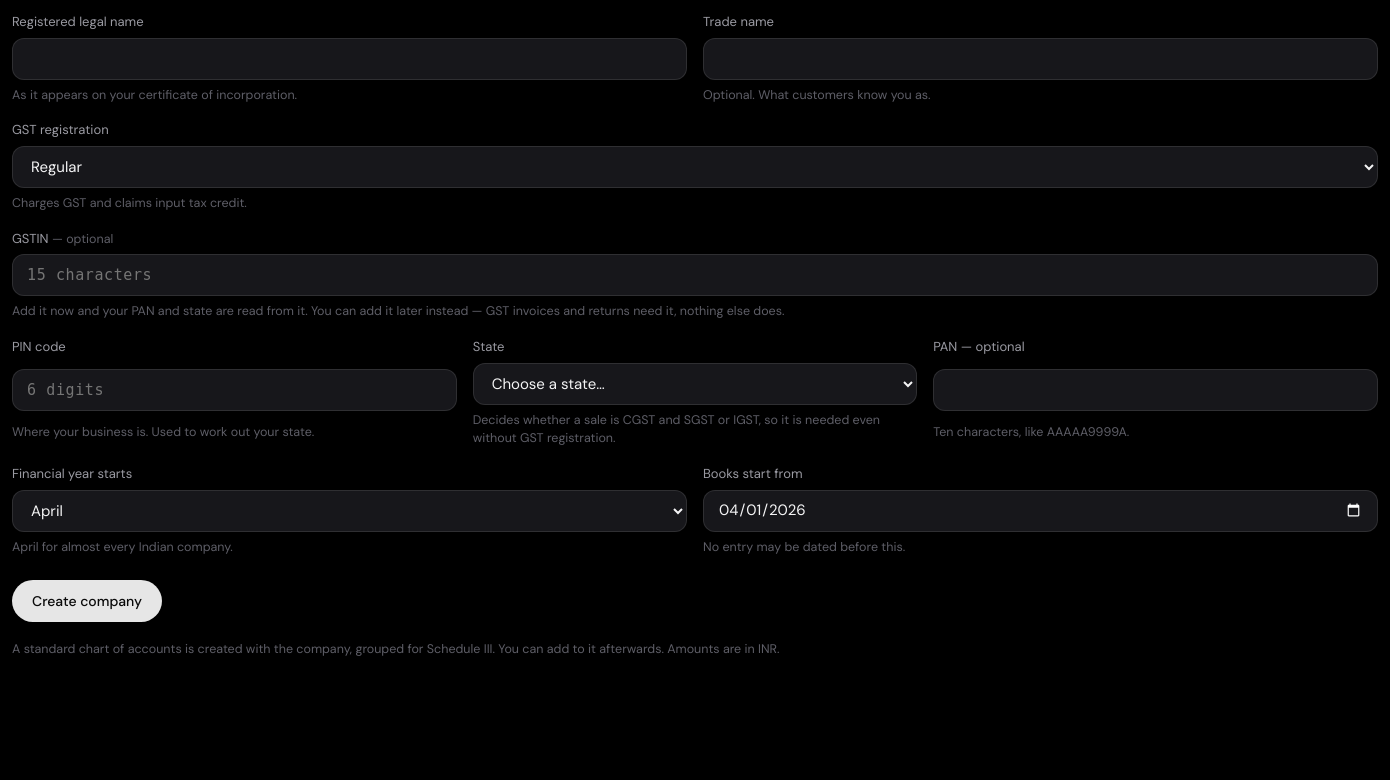
Test case: CompanyForm › asks for a PIN code and works the state out from it
The image size is (1390, 780).
Type "110001" into the field labelled "PIN code".
click(234, 390); type("110001")  # box [12,369,457,411]
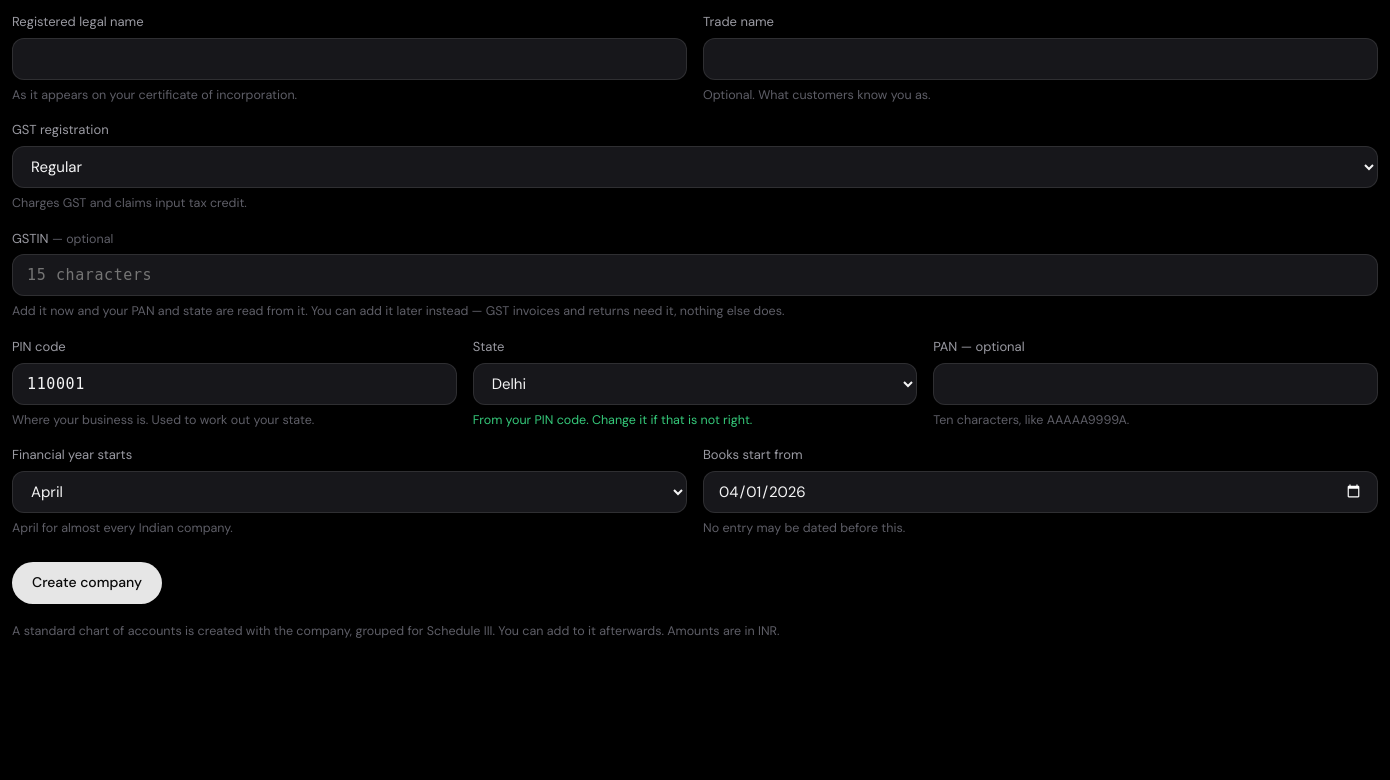
Check: the dropdown labelled "State" shows "Delhi", box [473,362,917,404]
Check: the text "From your PIN code. Change it if that is not right." is shown, box [473,412,752,428]
